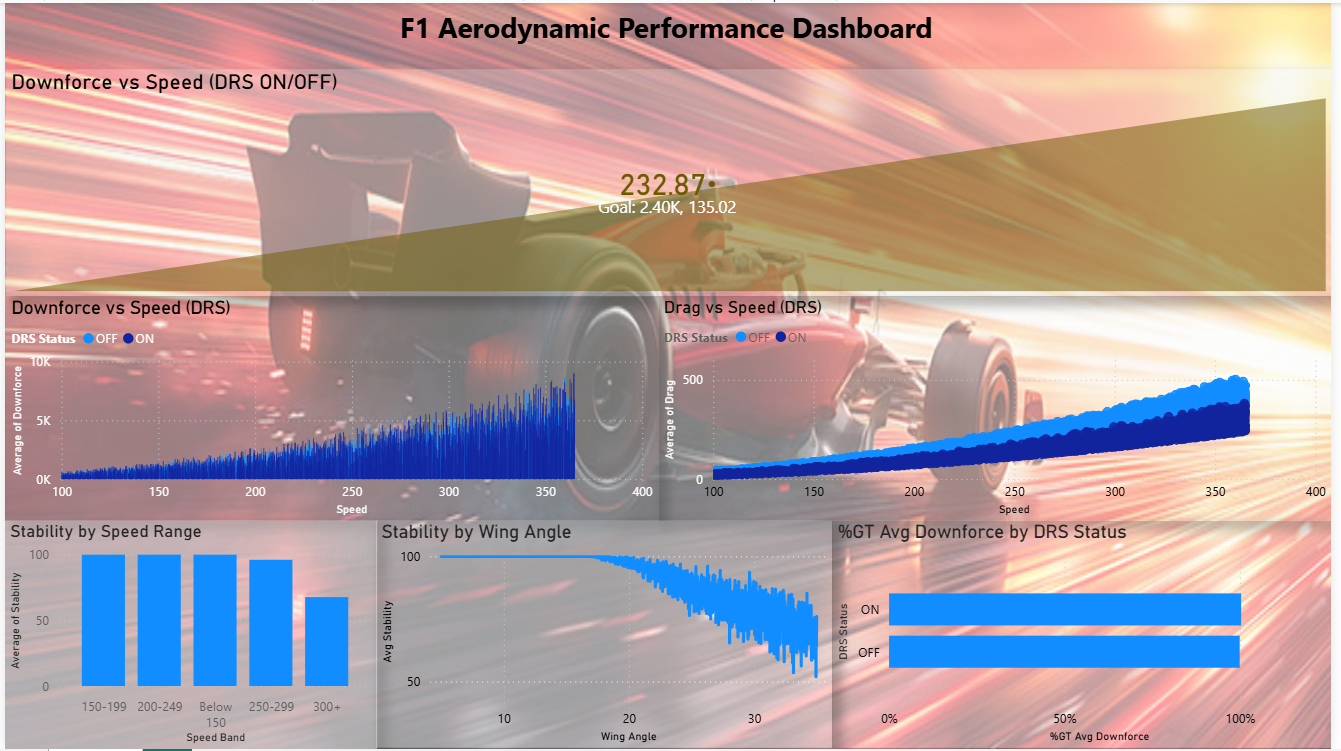

Layout of this report page (visuals, bound fields, positions):
{"tool":"powerbi","page":{"name":"Page 1","canvas":[1280,720],"ordinal":0},"visuals":[{"type":"kpi","title":"Downforce vs Speed (DRS ON/OFF)","fields":{"TrendLine":["actaruslab_f1_telemetry_2026.DRS Status"],"Indicator":["actaruslab_f1_telemetry_2026.Avg Speed"],"Goal":["actaruslab_f1_telemetry_2026.Avg Downforce","actaruslab_f1_telemetry_2026.Avg Drag"]},"box":[1.2,63.9,1278.8,219.6],"z":0},{"type":"clusteredColumnChart","title":"Downforce vs Speed (DRS)","fields":{"Category":["actaruslab_f1_telemetry_2026.Speed"],"Series":["actaruslab_f1_telemetry_2026.DRS Status"],"Y":["Avg(actaruslab_f1_telemetry_2026.Downforce)"]},"box":[1.2,283.5,629.8,216],"z":1000},{"type":"scatterChart","title":"Drag vs Speed (DRS)","fields":{"Series":["actaruslab_f1_telemetry_2026.DRS Status"],"X":["actaruslab_f1_telemetry_2026.Speed"],"Y":["Avg(actaruslab_f1_telemetry_2026.Drag)"]},"box":[631,283.5,649.1,216],"z":2000},{"type":"barChart","fields":{"Category":["actaruslab_f1_telemetry_2026.DRS Status"],"Y":["actaruslab_f1_telemetry_2026.Avg Downforce"]},"box":[798.7,499.5,481.4,219.6],"z":3000},{"type":"clusteredColumnChart","title":"Stability by Speed Range","fields":{"Y":["Avg(actaruslab_f1_telemetry_2026.Stability)"],"Category":["actaruslab_f1_telemetry_2026.Speed Band"]},"box":[1.2,498.9,359.5,221.3],"z":4000},{"type":"lineChart","title":"Stability by Wing Angle","fields":{"Category":["actaruslab_f1_telemetry_2026.Wing Angle"],"Y":["actaruslab_f1_telemetry_2026.Avg Stability"]},"box":[358.3,500.1,440.2,220.1],"z":5000},{"type":"textbox","box":[100.1,0,1076.1,63.9],"z":6000}]}

Visuals, with their boxes in screenshot pixels (x1, y1, x2, y2), scaled from the page's 1280x720 canvas onto the 1341x751 screenshot:
"Downforce vs Speed (DRS ON/OFF)" kpi: bbox=[1, 67, 1340, 296]
"Downforce vs Speed (DRS)" clusteredColumnChart: bbox=[1, 296, 661, 521]
"Drag vs Speed (DRS)" scatterChart: bbox=[661, 296, 1340, 521]
barChart - actaruslab_f1_telemetry_2026.DRS Status x actaruslab_f1_telemetry_2026.Avg Downforce: bbox=[837, 521, 1340, 750]
"Stability by Speed Range" clusteredColumnChart: bbox=[1, 520, 378, 750]
"Stability by Wing Angle" lineChart: bbox=[375, 522, 837, 750]
textbox: bbox=[105, 0, 1232, 67]
